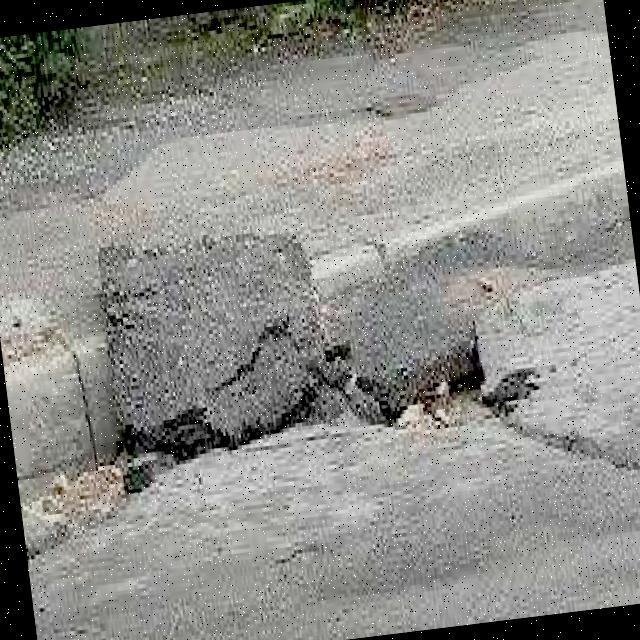curb: (1, 190, 640, 499)
